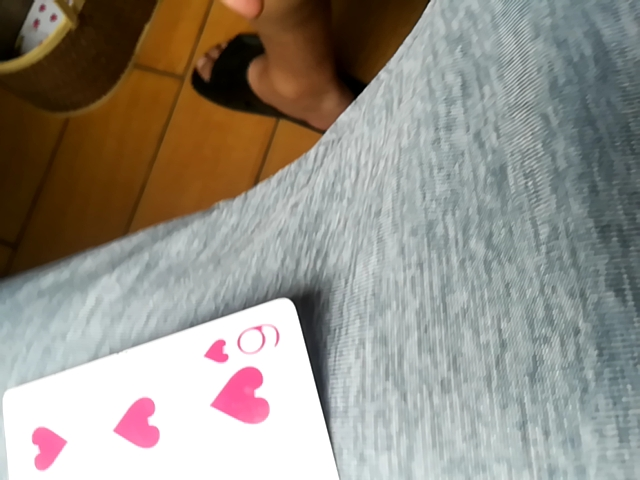hx 6: (4, 299, 348, 479)
